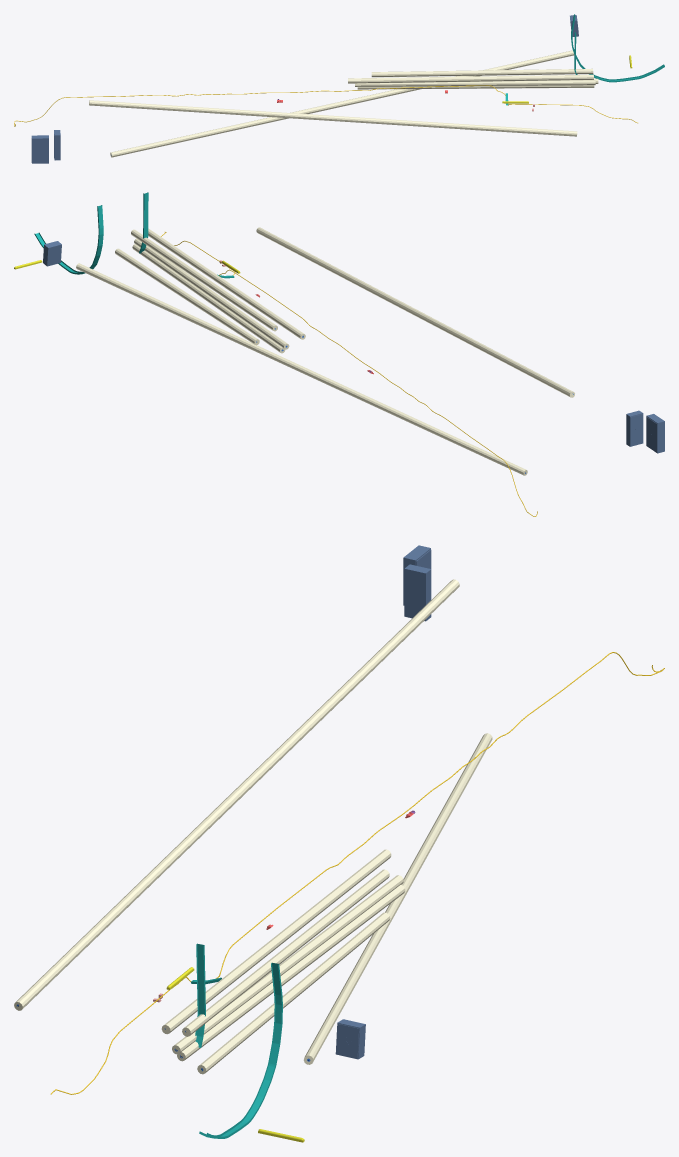
Rendered from tile_134.glb.
The picture shows the model from 3 angles, top to bottom: view 1: azimuth 30°, elevation 25°; view 2: azimuth 150°, elevation 25°; view 3: azimuth 270°, elevation 25°; orthographic projection. The views are drawn at different scales.
Size of the model in its own units: 31.29 by 4.36 by 15.98.
